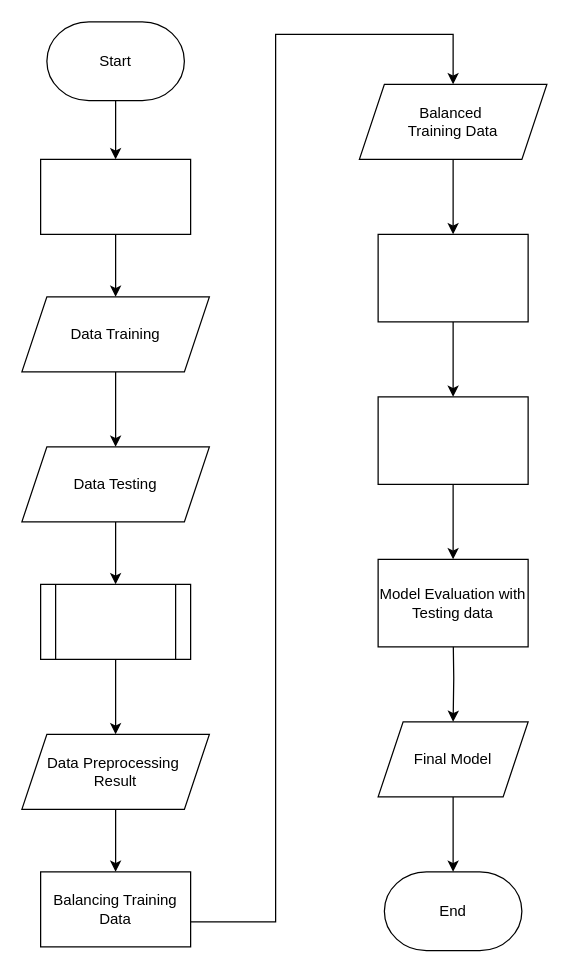
Some shapes in this 569 by 973 pixel diagram are drawn without their labels. The centre of each missing label's shape, as x and y in pixels:
Data Preprocessing: [115,621]
Hyperparameter Tuning: [452,277]
Load Dataset: [115,196]
Model Training with Training data: [452,440]
